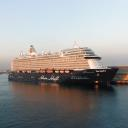cruises: (8, 41, 121, 86)
